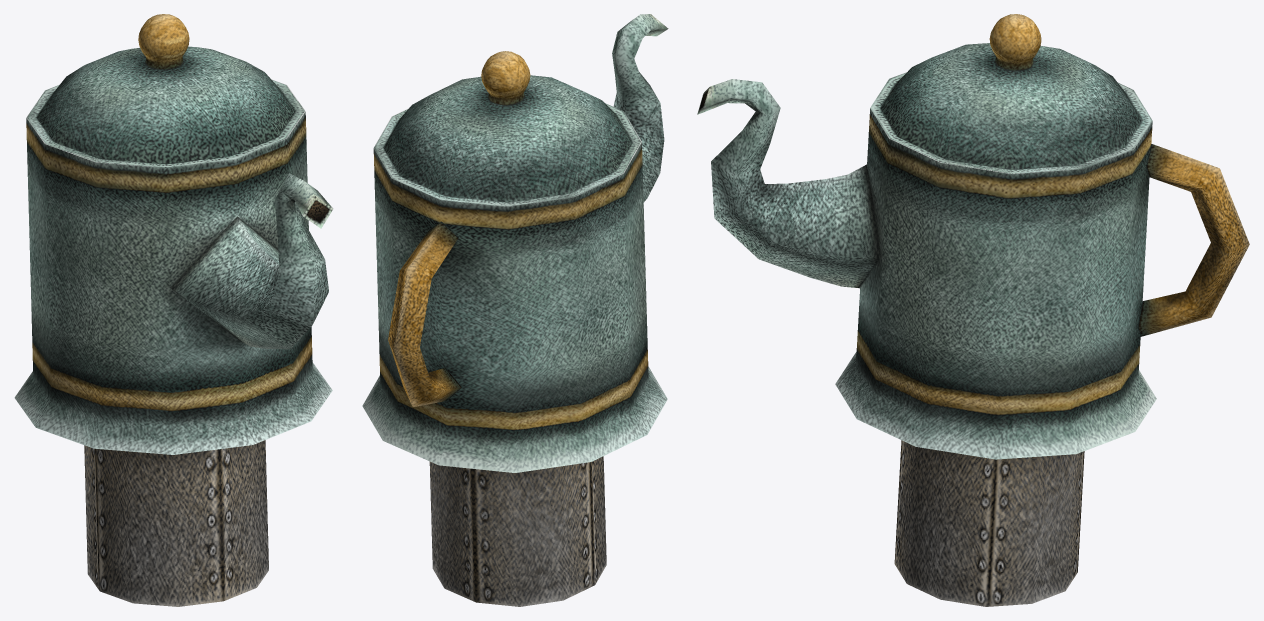
The model's file is HEAD_CHIBI_TEAPOD.fbx.
3 renders of one model, left to right at view 1: azimuth 30°, elevation 25°; view 2: azimuth 150°, elevation 25°; view 3: azimuth 270°, elevation 25°, orthographic. The views are drawn at different scales.
Parts seen in each view (by area): view 1: HEAD_TEAPOD; view 2: HEAD_TEAPOD; view 3: HEAD_TEAPOD.
Part boxes in pixels (x1=…): HEAD_TEAPOD: x1=14, y1=14, x2=333, y2=606; HEAD_TEAPOD: x1=362, y1=14, x2=668, y2=606; HEAD_TEAPOD: x1=697, y1=14, x2=1249, y2=606.
Size of the model in its own units: 0.0198 by 0.0378 by 0.034.
